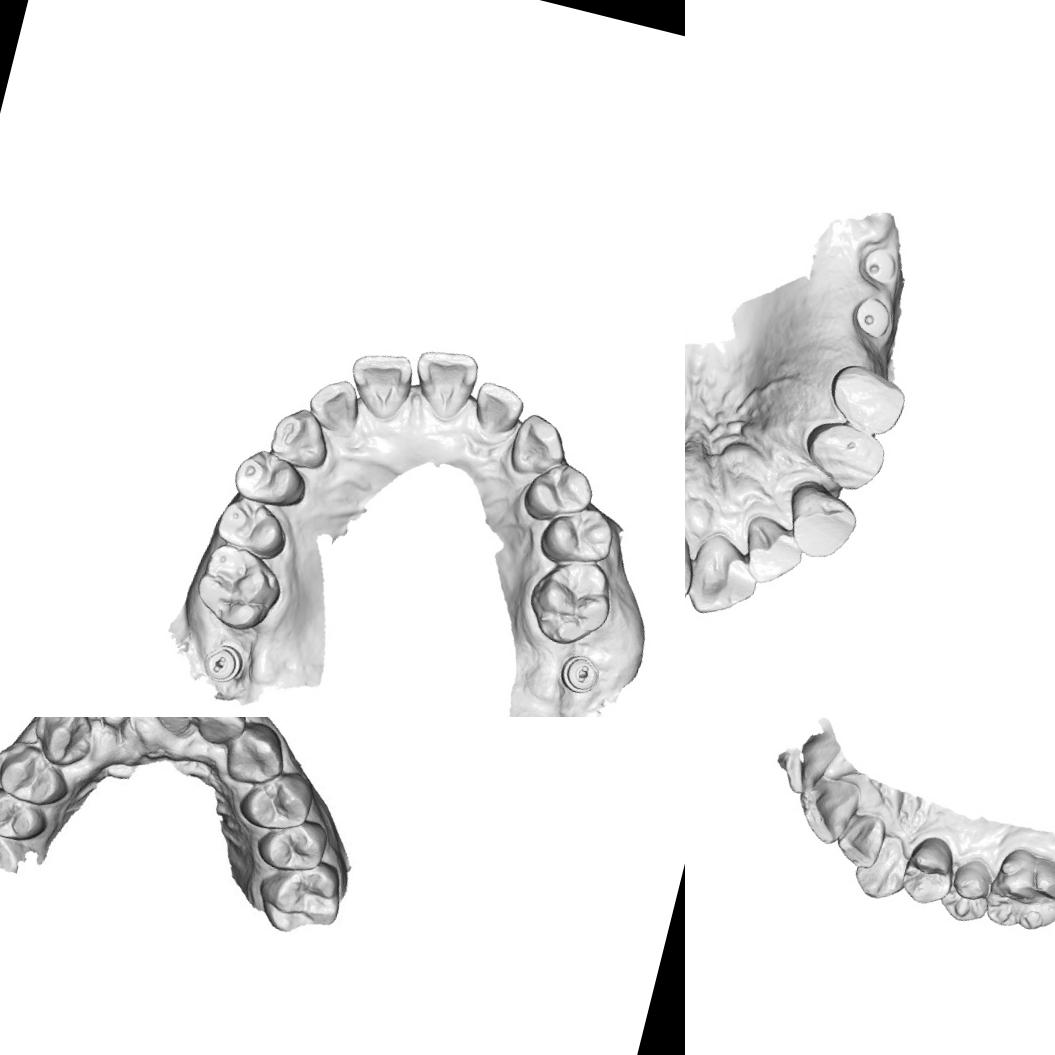canine: (778, 478, 864, 568), (502, 408, 577, 486), (263, 399, 338, 475), (220, 717, 287, 791), (850, 827, 913, 905), (29, 717, 101, 772)
implant: (847, 290, 895, 342), (853, 243, 902, 291)
implant_minus: (550, 649, 604, 701), (197, 638, 248, 690)
incisor: (685, 533, 765, 625), (402, 340, 482, 428), (338, 342, 419, 428), (732, 510, 812, 594), (792, 770, 866, 850), (301, 369, 368, 440), (777, 732, 843, 804), (464, 376, 529, 442), (830, 806, 890, 873), (191, 717, 252, 751), (685, 512, 707, 604), (144, 717, 210, 742)
molar: (244, 847, 355, 950), (518, 548, 623, 654), (187, 536, 291, 638), (979, 841, 1055, 940)
premolar: (795, 414, 893, 499), (822, 358, 912, 438), (233, 762, 319, 844), (534, 495, 620, 576), (516, 452, 600, 533), (209, 489, 299, 561), (226, 442, 312, 514), (252, 810, 333, 883), (894, 827, 962, 910), (0, 738, 76, 812), (936, 850, 1000, 928), (0, 782, 51, 849)
